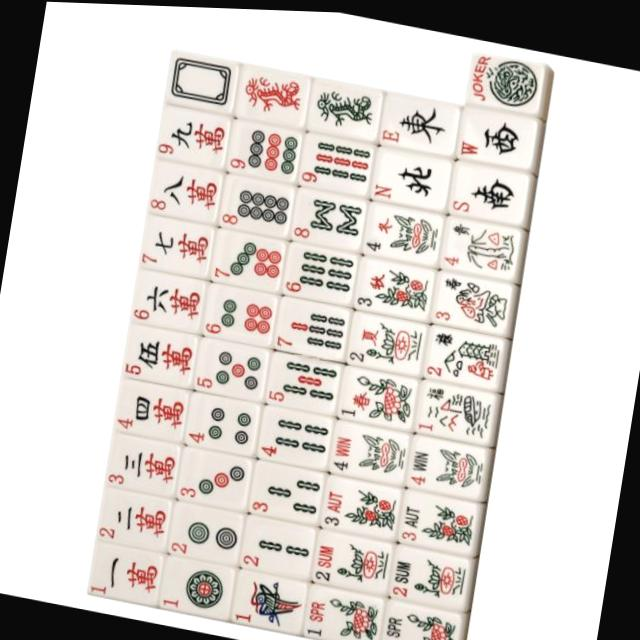bs1: (336, 362, 419, 428)
bs2: (346, 307, 428, 373)
bs3: (354, 251, 438, 318)
bs4: (365, 196, 445, 262)
hdg: (310, 75, 384, 139)
hdr: (239, 61, 314, 127)
hdw: (165, 47, 241, 114)
hwe: (379, 88, 461, 154)
hwn: (369, 139, 454, 208)
hws: (449, 158, 526, 221)
hww: (458, 104, 533, 165)
sb1: (229, 566, 311, 634)
sb2: (238, 509, 320, 579)
sb3: (246, 455, 327, 524)
sb4: (255, 400, 336, 468)
sb5: (264, 346, 344, 412)
sb6: (282, 239, 361, 304)
sb7: (274, 293, 354, 360)
sb8: (290, 183, 370, 250)
sb9: (297, 128, 378, 195)
sc1: (88, 540, 166, 605)
sc2: (96, 483, 174, 552)
sc3: (103, 429, 182, 496)
sc4: (114, 375, 192, 442)
sc5: (124, 321, 198, 384)
sc6: (131, 267, 209, 333)
sc7: (141, 211, 218, 276)
sc8: (146, 157, 224, 225)
sc9: (158, 101, 234, 168)
sd1: (159, 554, 239, 621)
sd2: (166, 496, 246, 565)
sd3: (176, 444, 255, 511)
sd4: (183, 387, 262, 454)
sd5: (194, 334, 272, 399)
sd6: (204, 279, 280, 345)
sd7: (212, 227, 289, 292)
sd8: (222, 172, 298, 237)
sd9: (227, 117, 304, 184)
